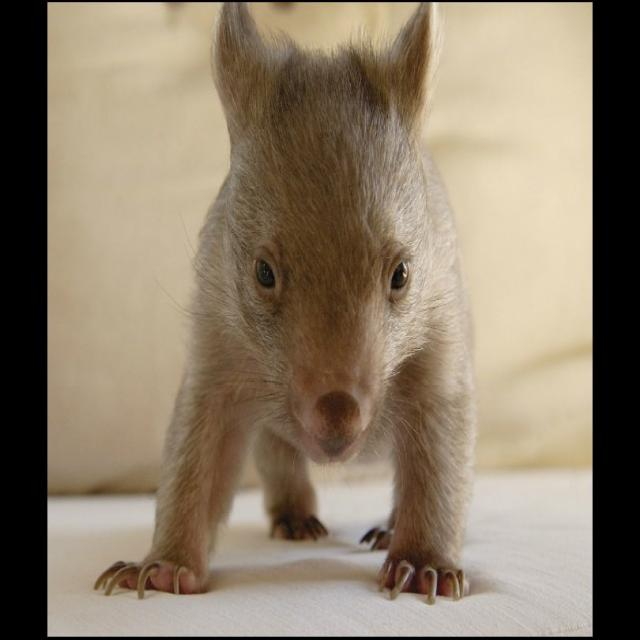Wombat: (97, 1, 479, 613)
